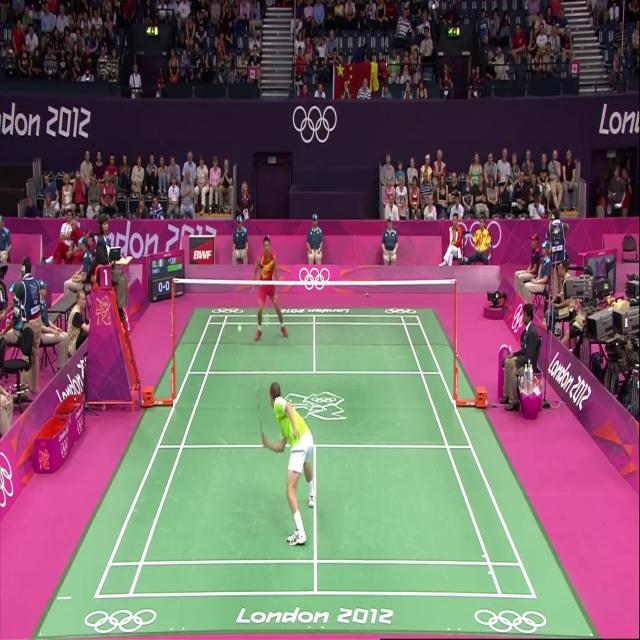Net: (174, 278, 458, 379)
Player1: (259, 347, 338, 539)
Player2: (240, 208, 280, 339)
Shuttlecock: (232, 331, 251, 361)
